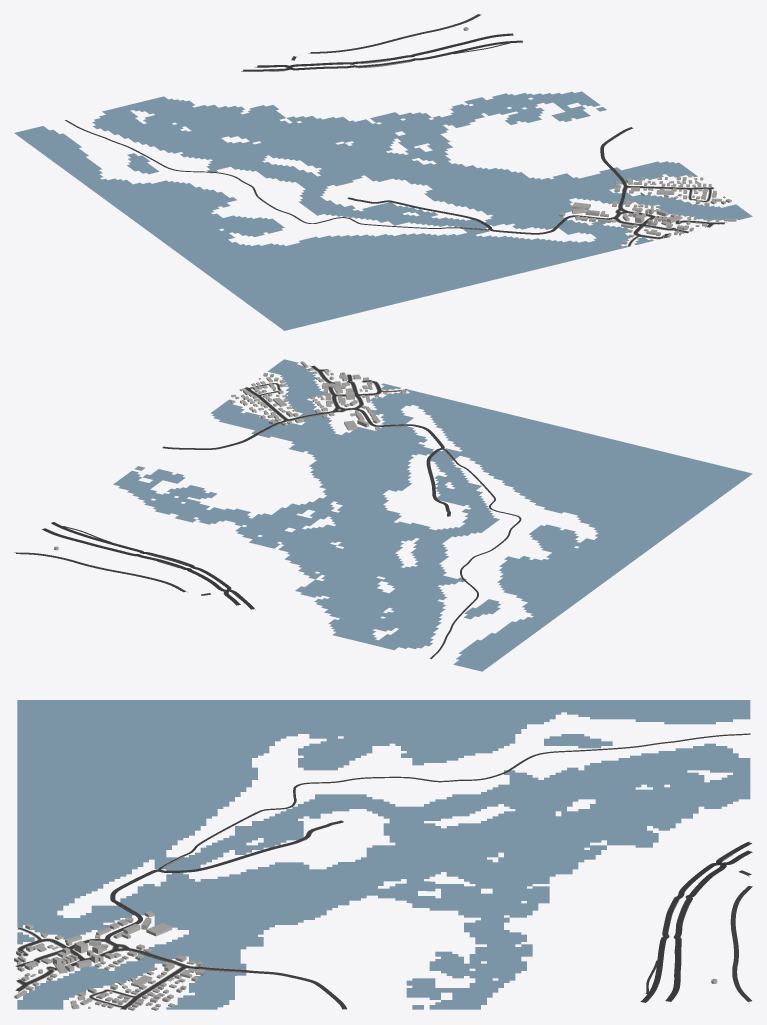
File: chunk_5_6.glb
The picture shows the model from 3 angles, top to bottom: view 1: azimuth 30°, elevation 25°; view 2: azimuth 150°, elevation 25°; view 3: azimuth 270°, elevation 25°; orthographic projection. The views are drawn at different scales.
Parts seen in each view (by area): view 1: Water_5_6, Roads_5_6, Filler_5_6, RoadSides_5_6; view 2: Water_5_6, Roads_5_6, Filler_5_6, RoadSides_5_6; view 3: Water_5_6, Roads_5_6, Filler_5_6, RoadSides_5_6, Buildings_5_6.
Boxes of the visible parts, x1=… form: Water_5_6: x1=14, y1=91, x2=752, y2=330; Roads_5_6: x1=65, y1=14, x2=724, y2=246; Filler_5_6: x1=558, y1=174, x2=736, y2=244; RoadSides_5_6: x1=269, y1=58, x2=726, y2=246; Water_5_6: x1=113, y1=359, x2=752, y2=671; Roads_5_6: x1=14, y1=365, x2=521, y2=658; Filler_5_6: x1=230, y1=361, x2=406, y2=430; RoadSides_5_6: x1=147, y1=365, x2=455, y2=598; Water_5_6: x1=17, y1=700, x2=750, y2=1009; Roads_5_6: x1=15, y1=733, x2=752, y2=1009; Filler_5_6: x1=14, y1=911, x2=204, y2=1010; RoadSides_5_6: x1=16, y1=837, x2=732, y2=1009; Buildings_5_6: x1=14, y1=945, x2=717, y2=1005.
Bounding box in the file's own units: 2056 × 42.49 × 2065.
